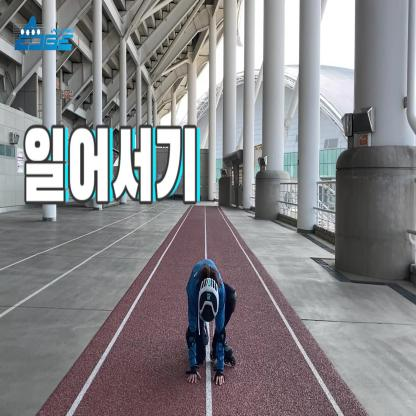Fall_Down: (186, 259, 236, 388)
